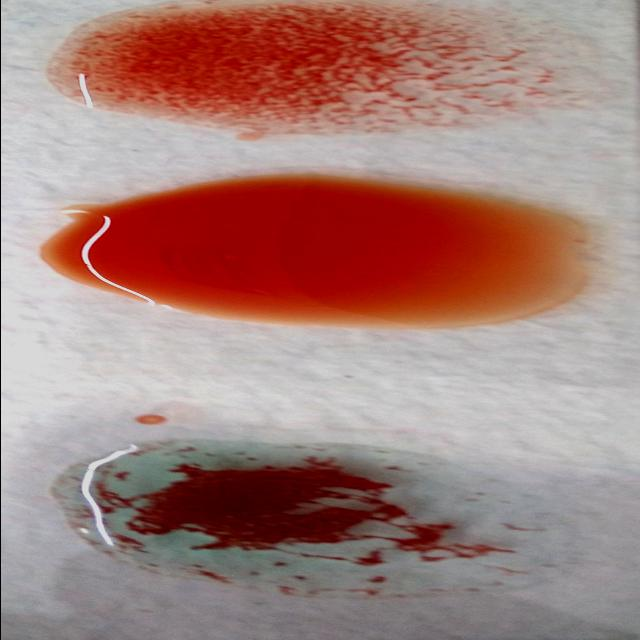A: (65, 440, 540, 594)
D: (51, 3, 589, 132)
